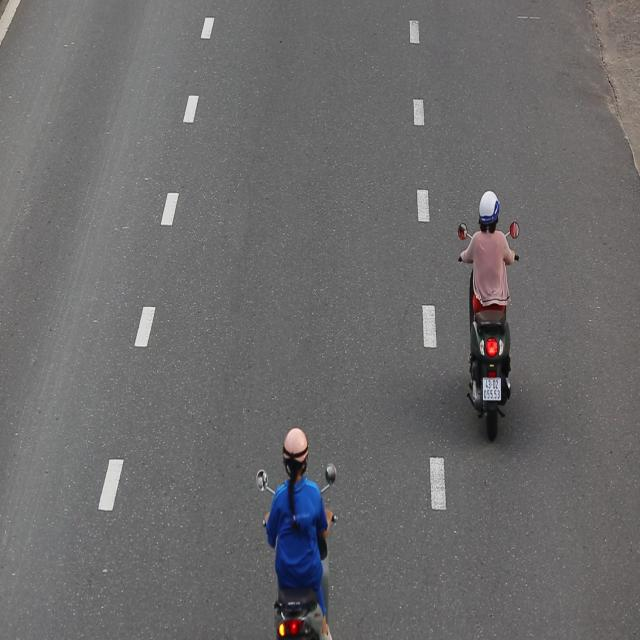motorbike: (454, 185, 522, 446)
